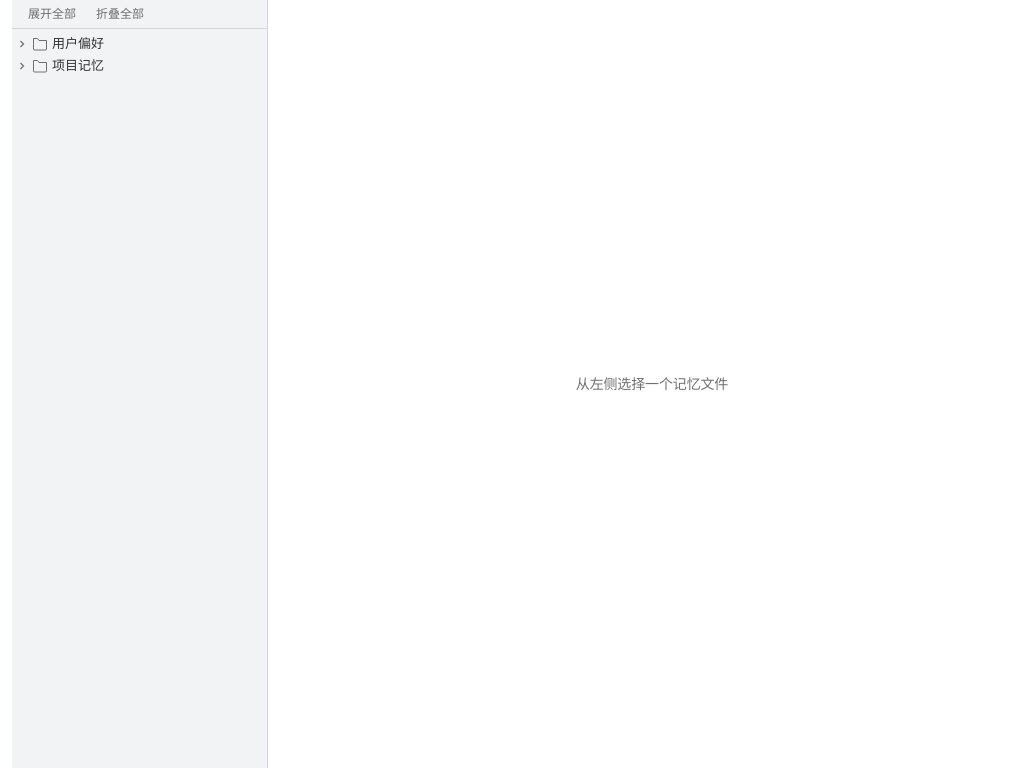
Test: MemoryManagerDialog › edge: shows error state when read returns not-found (file deleted while selected)
The width and height of the screenshot is (1036, 768).
expect the text "用户偏好" is shown: met, box [52,35,104,52]
Click the list item "用户偏好". click: x=140, y=44
box: [12,33,267,55]
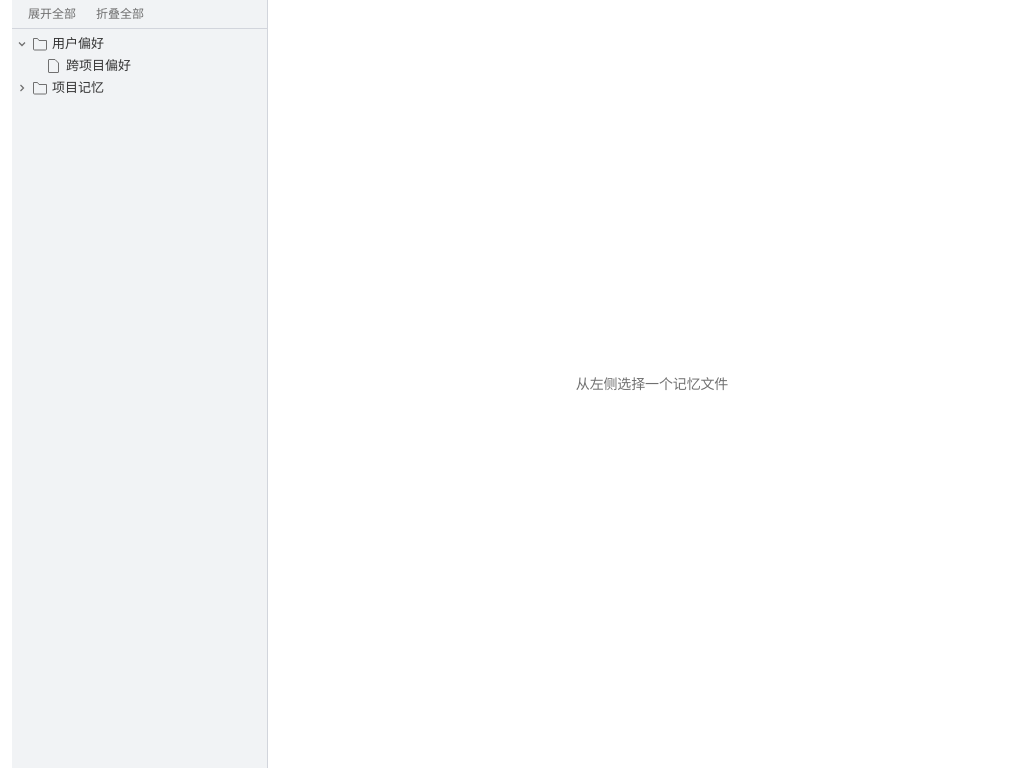
expect the text "跨项目偏好" is shown: met, box [66,57,131,74]
Click the list item "跨项目偏好". click: x=140, y=66
box: [12,55,267,77]
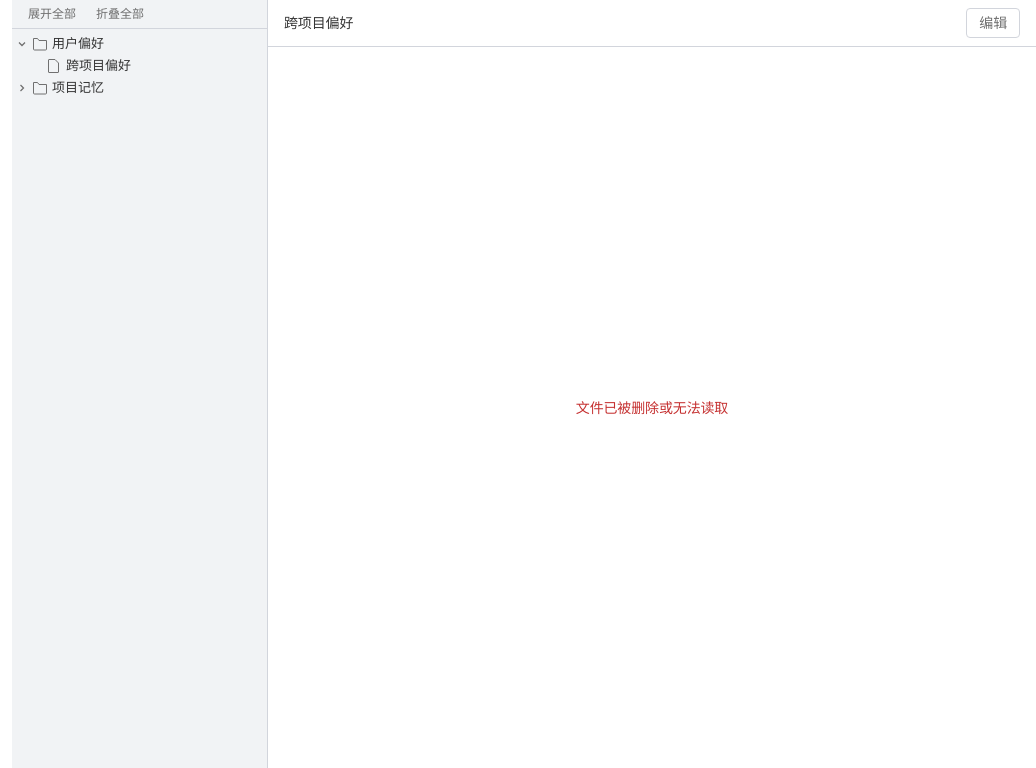
expect the text "文件已被删除或无法读取" is shown: met, box [576,398,728,416]
